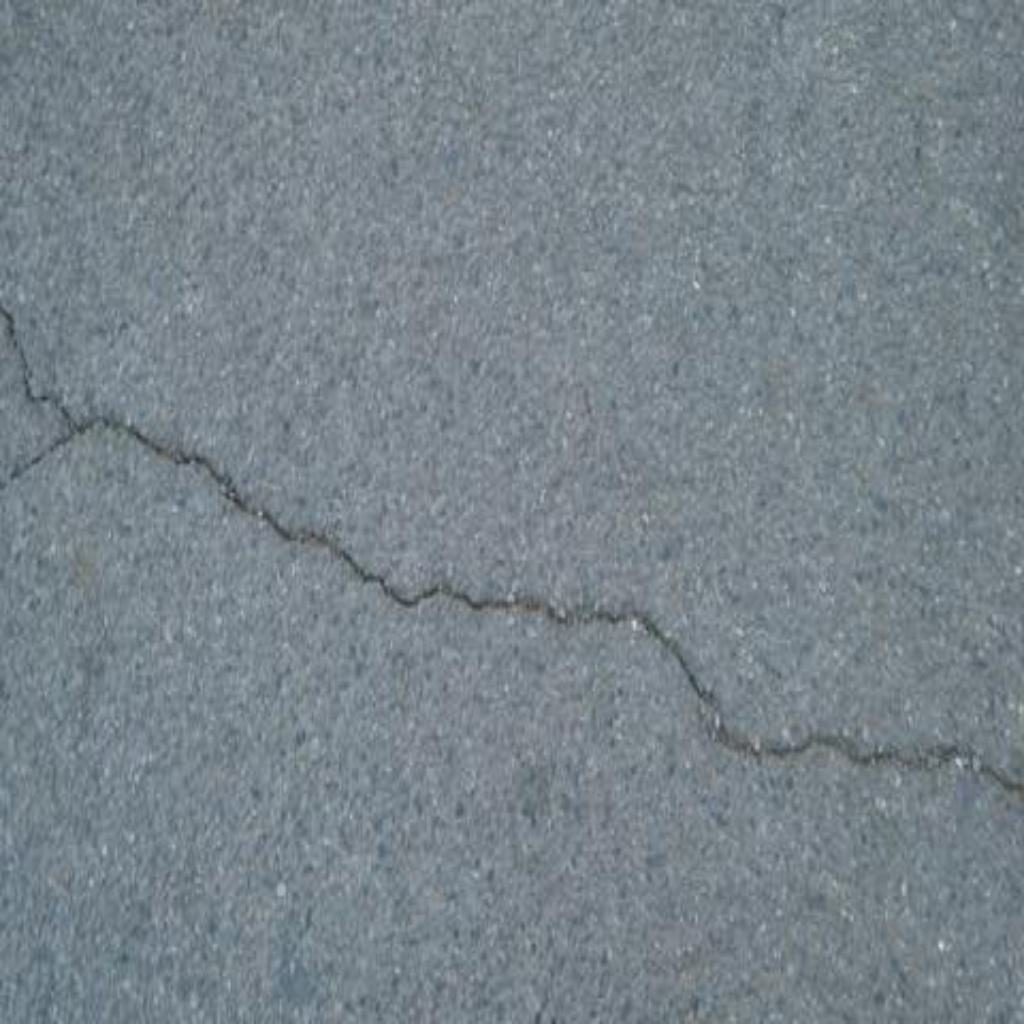Crack: (1, 304, 1024, 793)
